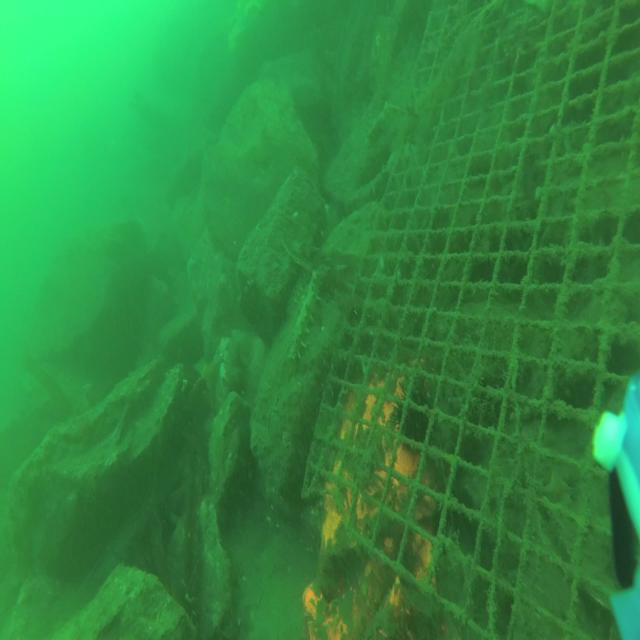holothurian: (289, 269, 321, 367)
